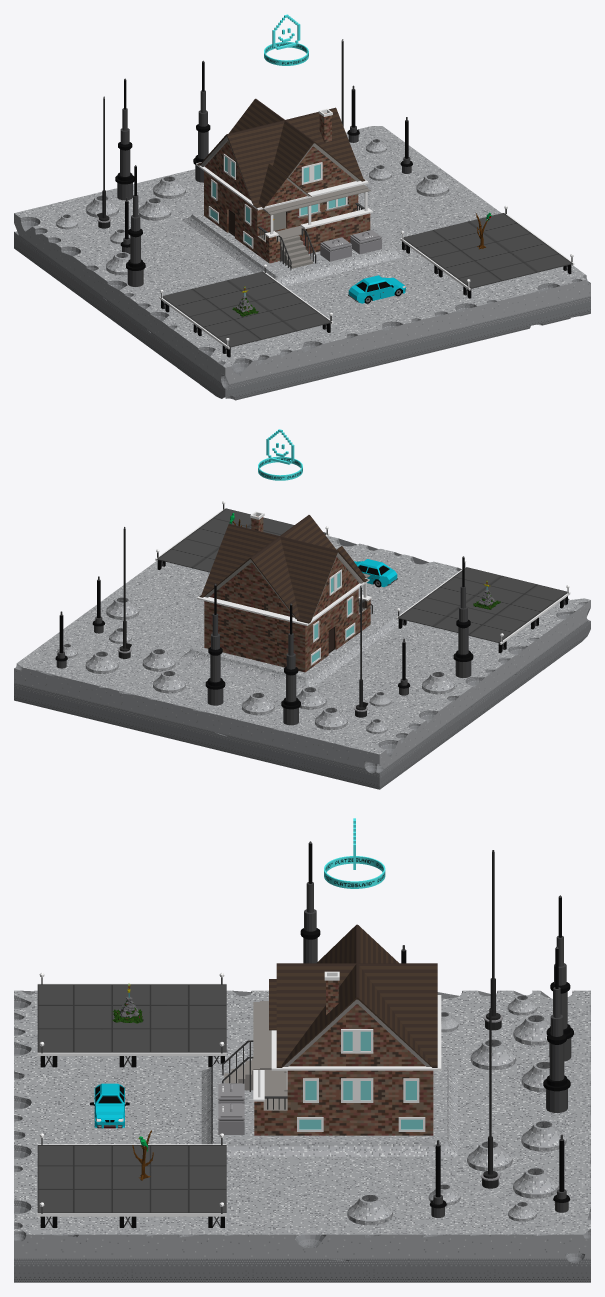
3 renders of one model, top to bottom at view 1: azimuth 30°, elevation 25°; view 2: azimuth 150°, elevation 25°; view 3: azimuth 270°, elevation 25°, orthographic. The views are drawn at different scales.
Visible parts, largest first — view 1: Cube.027, Cube.117, Cube.026, Cube.025, Cube.028, Cylinder.021, Cylinder.020, VEHICLES_CAR, Cylinder.017, TYPE_PREMIUM, Cube.029, Cube.030 (+3 smaller); view 2: Cube.027, Cube.117, Cube.025, Cube.028, Cube.026, Cylinder.017, Cylinder.021, Cylinder.020, TYPE_PREMIUM, VEHICLES_CAR, Cylinder.030, Cylinder.029 (+7 smaller); view 3: Cube.027, Cube.117, Cube.026, Cube.025, Cube.028, Cylinder.017, VEHICLES_CAR, Cylinder.020, Cylinder.021, TYPE_PREMIUM, Cylinder.033, Cylinder.031 (+10 smaller).
Part boxes in pixels (<box>): Cube.027: <box>14,126,590,400</box>; Cube.117: <box>196,98,372,269</box>; Cube.026: <box>400,205,574,298</box>; Cube.025: <box>159,264,333,357</box>; Cube.028: <box>182,211,403,286</box>; Cylinder.021: <box>126,165,145,286</box>; Cylinder.020: <box>115,78,134,200</box>; VEHICLES_CAR: <box>348,275,405,303</box>; Cylinder.017: <box>193,60,210,182</box>; TYPE_PREMIUM: <box>264,14,308,65</box>; Cube.029: <box>320,237,351,261</box>; Cube.030: <box>350,230,381,254</box>; Cube.027: <box>14,536,590,789</box>; Cube.117: <box>197,511,372,672</box>; Cube.025: <box>396,560,570,653</box>; Cube.028: <box>181,610,398,688</box>; Cube.026: <box>155,501,329,572</box>; Cylinder.017: <box>205,583,225,705</box>; Cylinder.021: <box>453,556,473,677</box>; Cylinder.020: <box>281,603,300,725</box>; TYPE_PREMIUM: <box>258,429,302,480</box>; VEHICLES_CAR: <box>354,559,397,587</box>; Cylinder.030: <box>142,648,175,671</box>; Cylinder.029: <box>153,670,185,693</box>; Cube.027: <box>14,990,590,1282</box>; Cube.117: <box>222,924,441,1135</box>; Cube.026: <box>37,1133,226,1227</box>; Cube.025: <box>37,973,226,1067</box>; Cube.028: <box>201,1063,457,1156</box>; Cylinder.017: <box>543,946,570,1112</box>; VEHICLES_CAR: <box>90,1083,129,1128</box>; Cylinder.020: <box>546,895,573,1061</box>; Cylinder.021: <box>300,841,320,963</box>; TYPE_PREMIUM: <box>324,818,385,888</box>; Cylinder.033: <box>347,1194,392,1225</box>; Cylinder.031: <box>513,1167,558,1198</box>.
Bounding box in the file's own units: 4000 × 2703 × 4000.
Materials: 45 (6 with a texture image).
